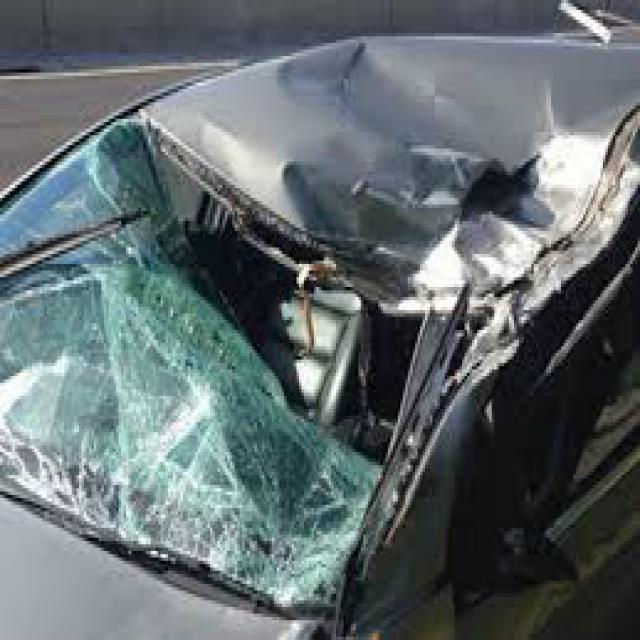Front-Windscreen-Damage: (0, 109, 464, 637)
roof-dent: (144, 26, 638, 310)
